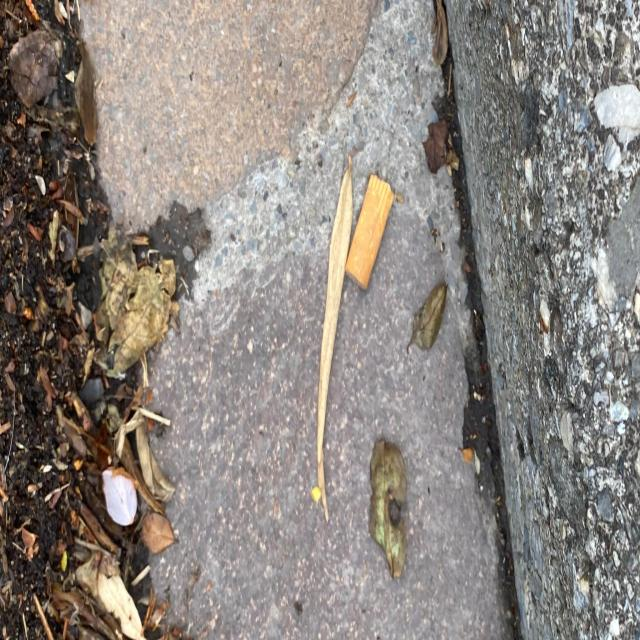other waste: (344, 171, 394, 291)
